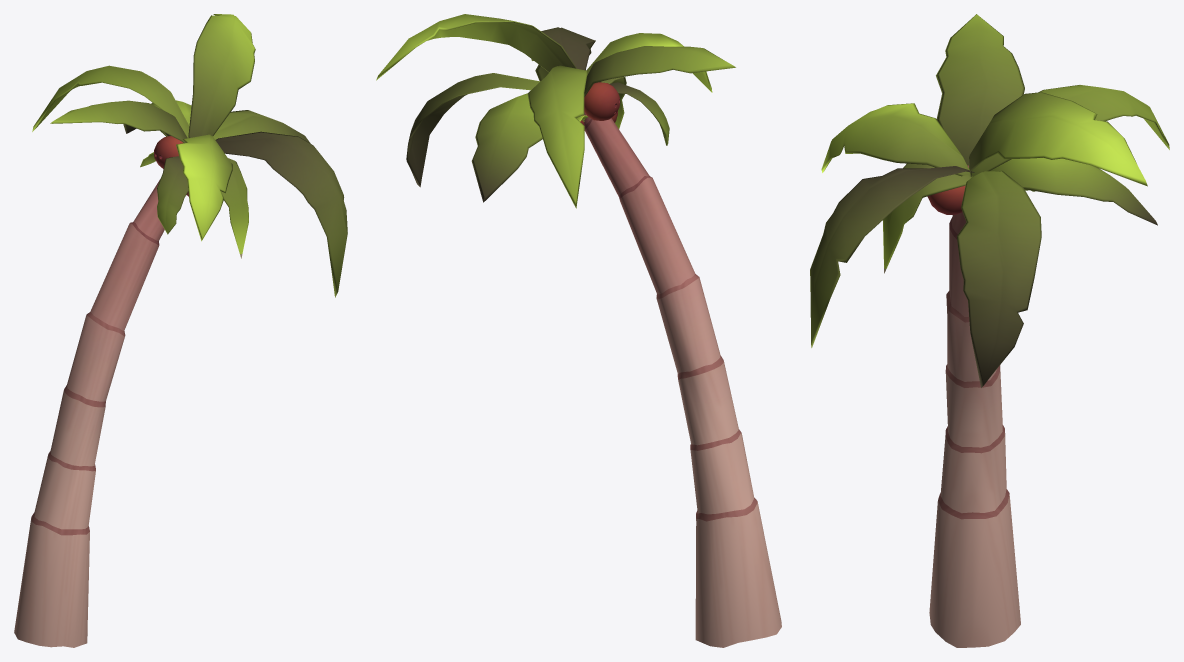
Rendered from Palm.FBX.
3 renders of one model, left to right at view 1: azimuth 30°, elevation 25°; view 2: azimuth 150°, elevation 25°; view 3: azimuth 270°, elevation 25°, orthographic. The views are drawn at different scales.
Visible parts, largest first — view 1: Palm; view 2: Palm; view 3: Palm.
Part boxes in pixels (x1=…): Palm: x1=14, y1=14, x2=347, y2=647; Palm: x1=376, y1=14, x2=781, y2=647; Palm: x1=810, y1=14, x2=1169, y2=647.
Bounding box in the file's own units: 160 × 256 × 130.
